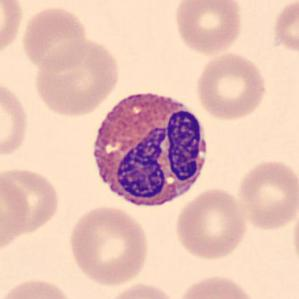Eosinophil: (83, 81, 216, 218)
RBC: (66, 202, 152, 288), (33, 37, 122, 119), (172, 185, 249, 262), (193, 50, 268, 121), (19, 4, 90, 73), (234, 157, 298, 232), (1, 164, 62, 241), (172, 0, 245, 57), (0, 166, 32, 256), (0, 78, 32, 162), (174, 272, 258, 299), (0, 275, 77, 299), (270, 0, 299, 57), (0, 0, 25, 63), (102, 281, 180, 299), (290, 199, 299, 274)
